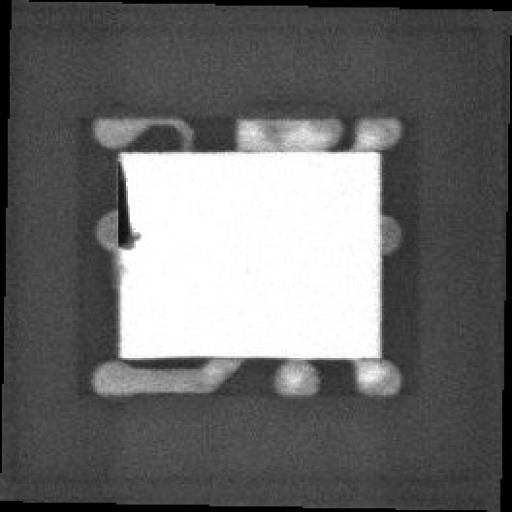DIE_BROKEN: (112, 158, 138, 254)
